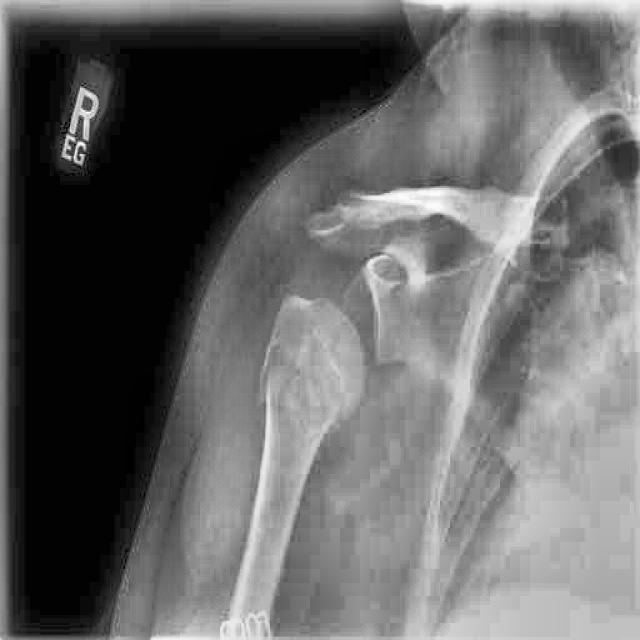shoulder fracture: (241, 335, 311, 434)
